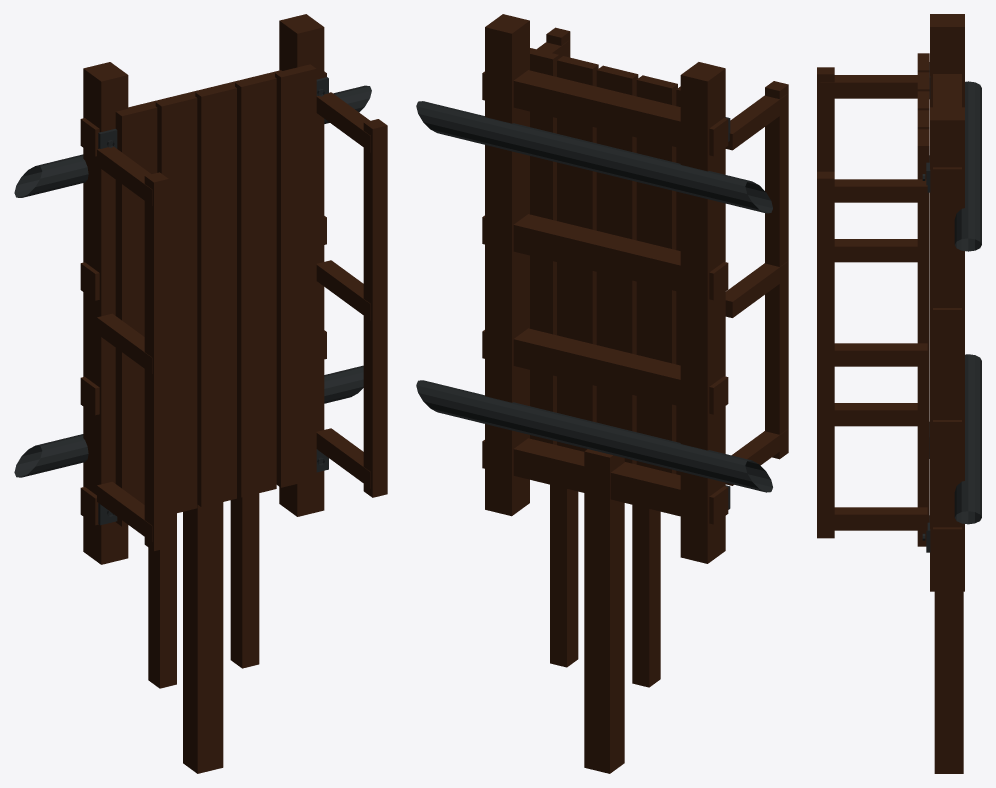
File: chassis_LOD0.obj
3 renders of one model, left to right at view 1: azimuth 30°, elevation 25°; view 2: azimuth 150°, elevation 25°; view 3: azimuth 270°, elevation 25°, orthographic. The views are drawn at different scales.
Parts seen in each view (by area): view 1: oak_deck, oak_drawbar, oak_longitudinal_rails, oak_side_rails, oak_side_posts, iron_axles, oak_crossmembers, iron_straps; view 2: oak_longitudinal_rails, oak_deck, oak_crossmembers, oak_drawbar, iron_axles, oak_side_rails, oak_side_posts; view 3: oak_longitudinal_rails, oak_side_posts, oak_side_rails, iron_axles, oak_deck, oak_drawbar, oak_crossmembers, iron_straps.
Part boxes in pixels (x1,y1,x2,y2): oak_deck: (115, 64, 316, 526); oak_drawbar: (148, 493, 259, 773); oak_longitudinal_rails: (83, 14, 324, 564); oak_side_rails: (144, 119, 387, 550); oak_side_posts: (97, 92, 370, 541); iron_axles: (14, 85, 371, 477); oak_crossmembers: (80, 70, 326, 525); iron_straps: (98, 77, 328, 525); oak_longitudinal_rails: (485, 14, 725, 563); oak_deck: (530, 48, 680, 475); oak_crossmembers: (482, 70, 728, 524); oak_drawbar: (550, 449, 660, 773); iron_axles: (416, 101, 772, 492); oak_side_rails: (546, 27, 788, 459); oak_side_posts: (537, 40, 787, 485); oak_longitudinal_rails: (930, 14, 964, 591); oak_side_posts: (820, 75, 927, 530); oak_side_rails: (817, 67, 834, 538); iron_axles: (954, 81, 981, 524); oak_deck: (917, 53, 929, 546); oak_drawbar: (934, 591, 963, 773); oak_crossmembers: (933, 74, 961, 555); iron_straps: (926, 62, 930, 552).
Size of the model in its own units: 2.49 by 4.83 by 1.03.
